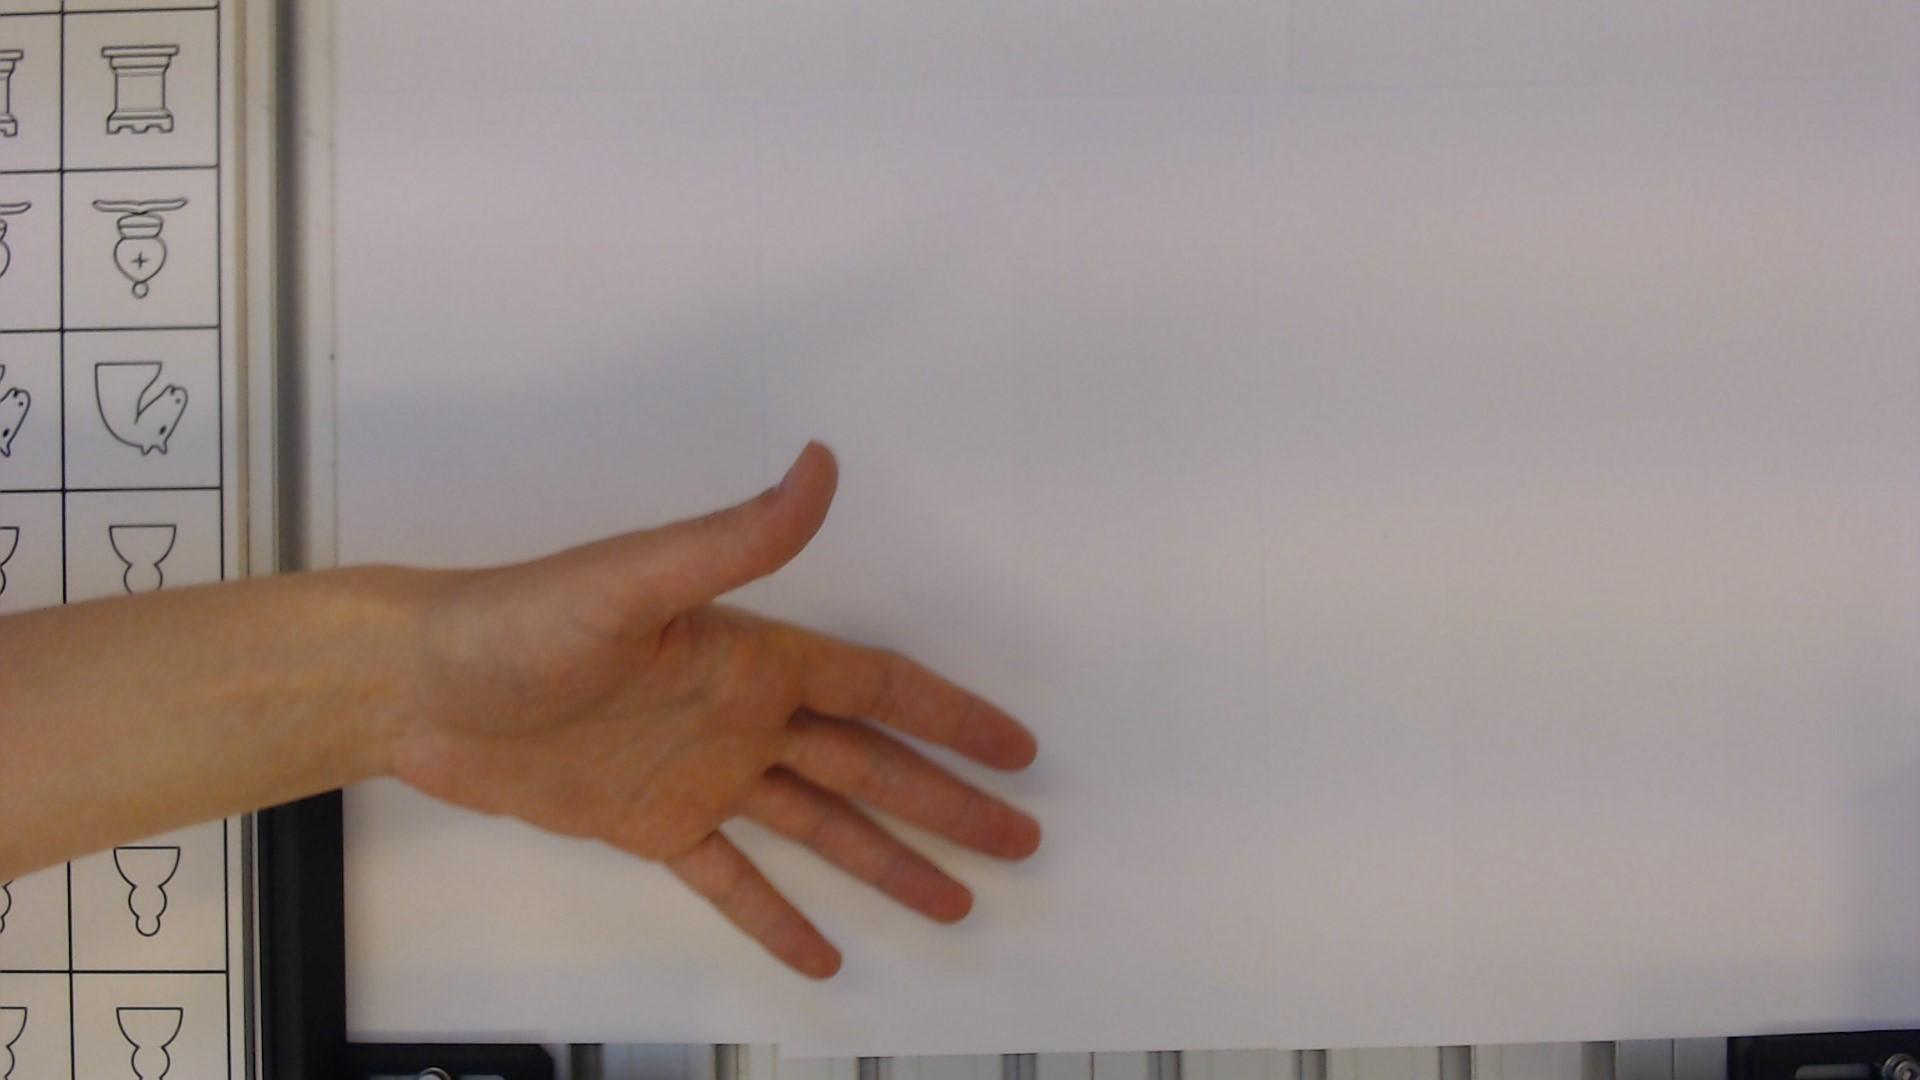Palm: (430, 538, 794, 969)
